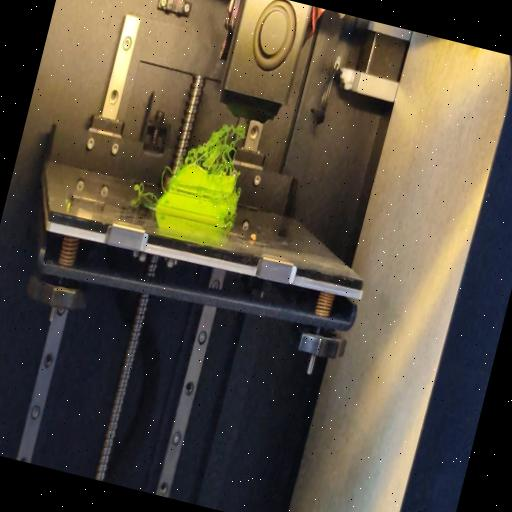spaghetti: (182, 112, 248, 178), (128, 181, 158, 205), (158, 164, 172, 194), (222, 219, 236, 230)
